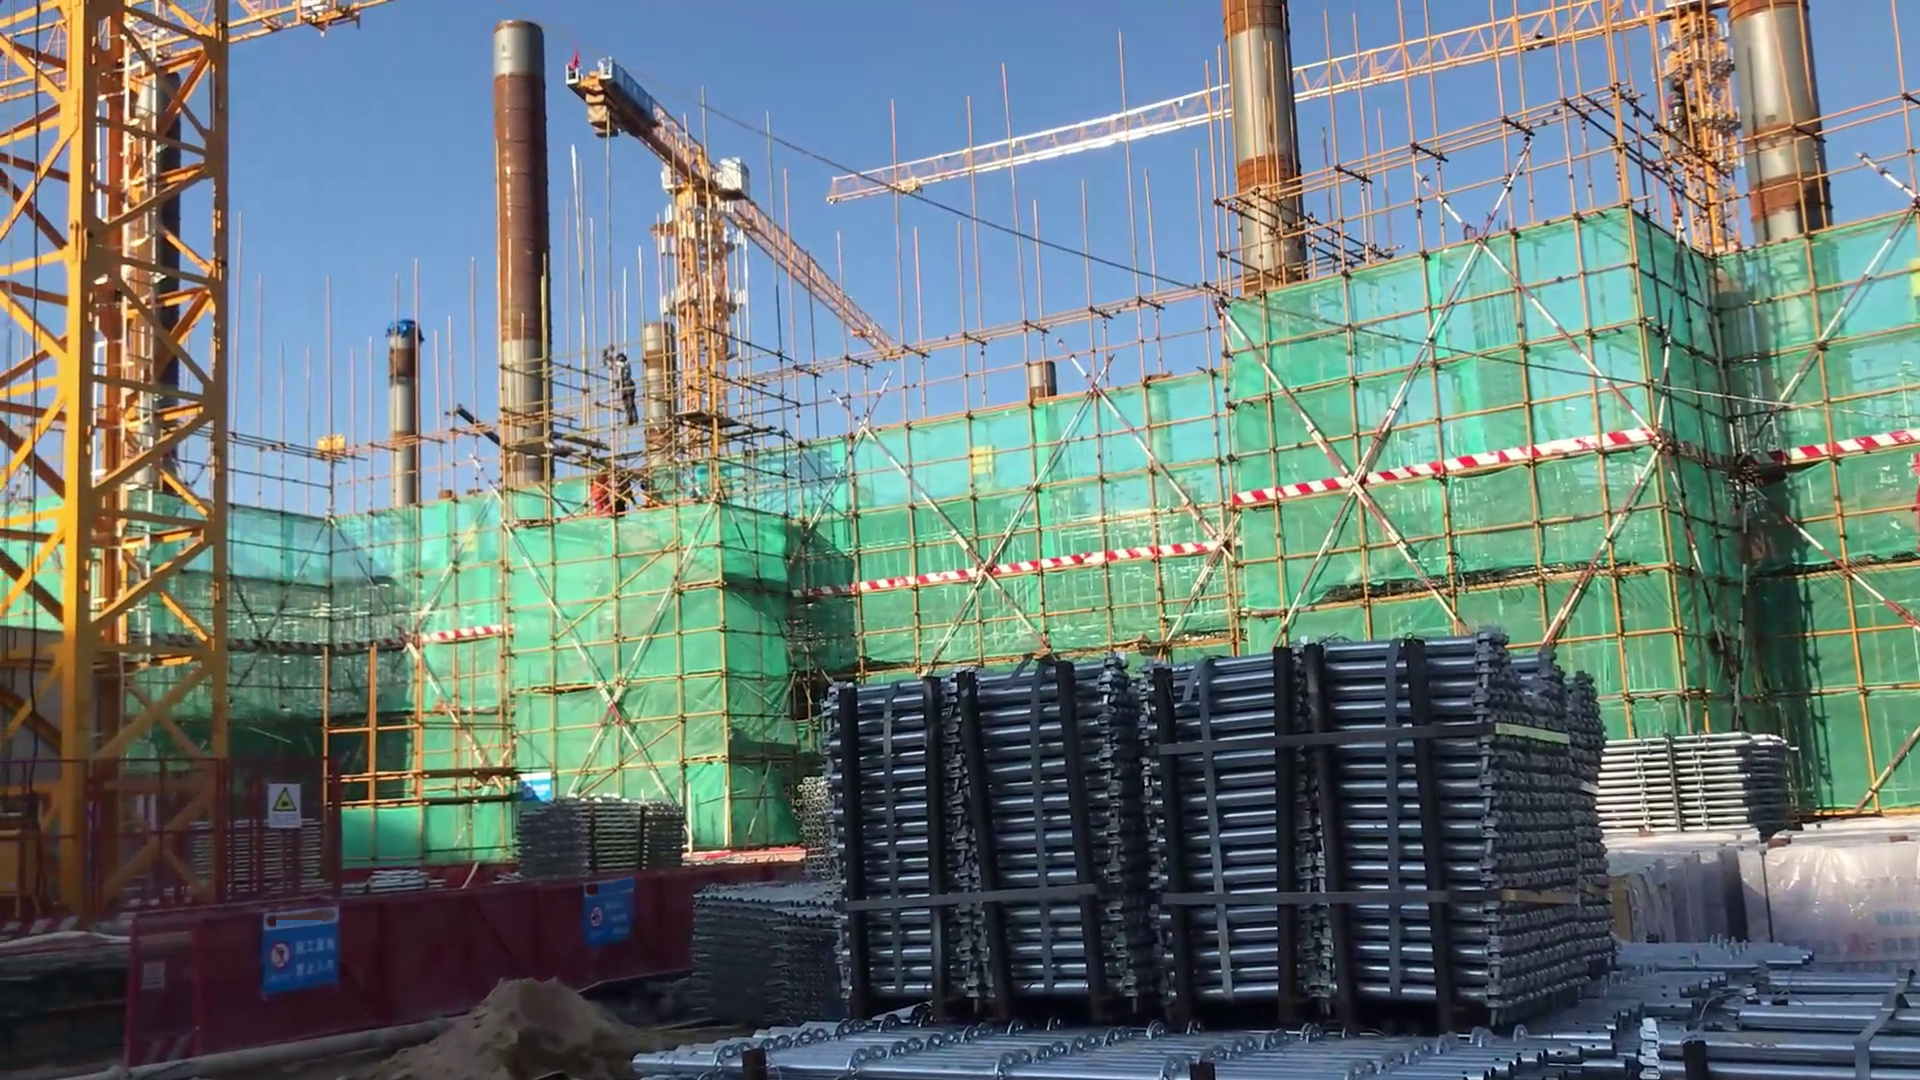fence: (123, 877, 697, 1013), (95, 762, 348, 885)
hook: (316, 434, 358, 474)
person: (600, 343, 642, 426)
scaffold: (823, 631, 1595, 1027), (638, 938, 1919, 1079), (1600, 724, 1806, 842), (695, 870, 847, 1017), (513, 799, 680, 871), (793, 781, 841, 867)
slogan: (261, 889, 350, 1001), (568, 878, 650, 960), (266, 777, 309, 832), (508, 771, 556, 813)
